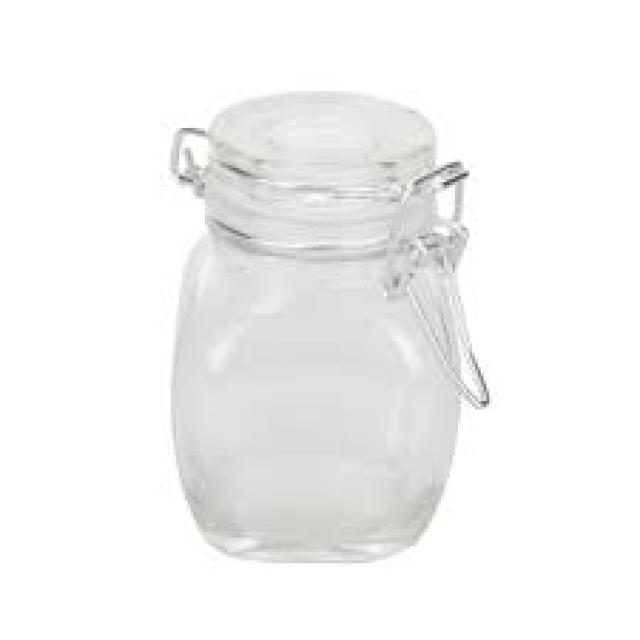glass: (171, 89, 458, 561)
